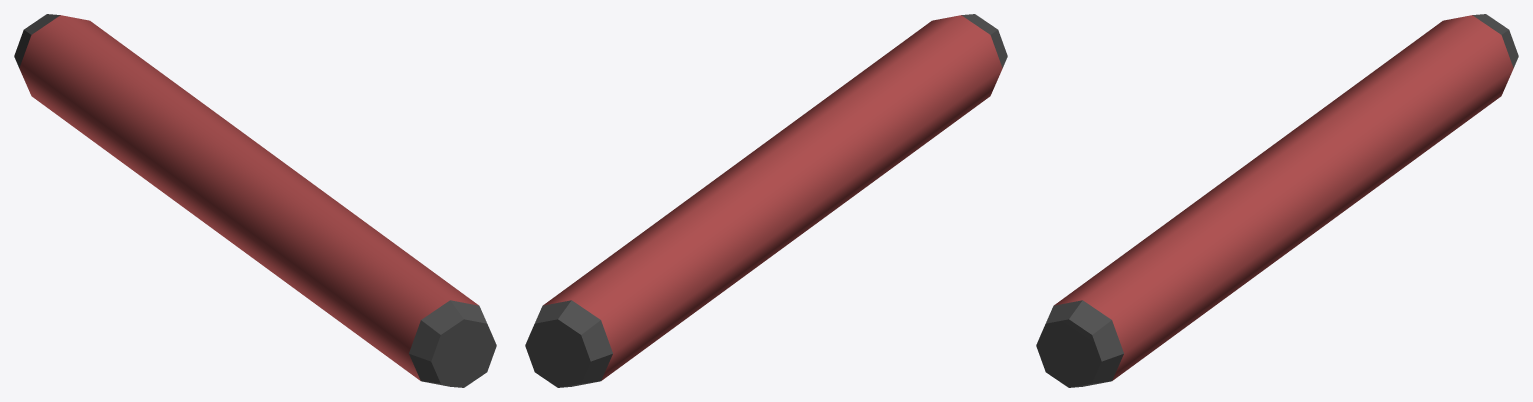
File: rod_stick_6.FBX
3 renders of one model, left to right at view 1: azimuth 30°, elevation 25°; view 2: azimuth 150°, elevation 25°; view 3: azimuth 330°, elevation 25°, orthographic.
Parts seen in each view (by area): view 1: rod_stick_6; view 2: rod_stick_6; view 3: rod_stick_6.
Part boxes in pixels (bbox=[...]): rod_stick_6: bbox=[14, 14, 496, 387]; rod_stick_6: bbox=[525, 14, 1007, 387]; rod_stick_6: bbox=[1036, 14, 1518, 387].
Bounding box in the file's own units: 3.11 × 3.11 × 27.12.
